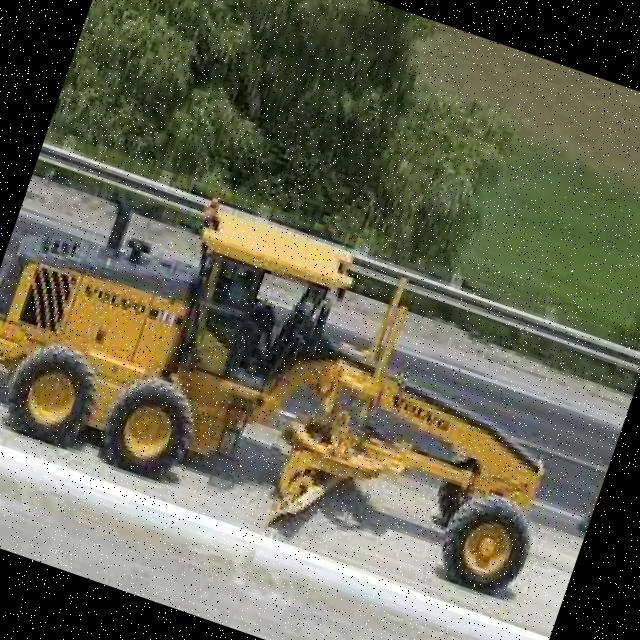Grader: (0, 126, 615, 640)
